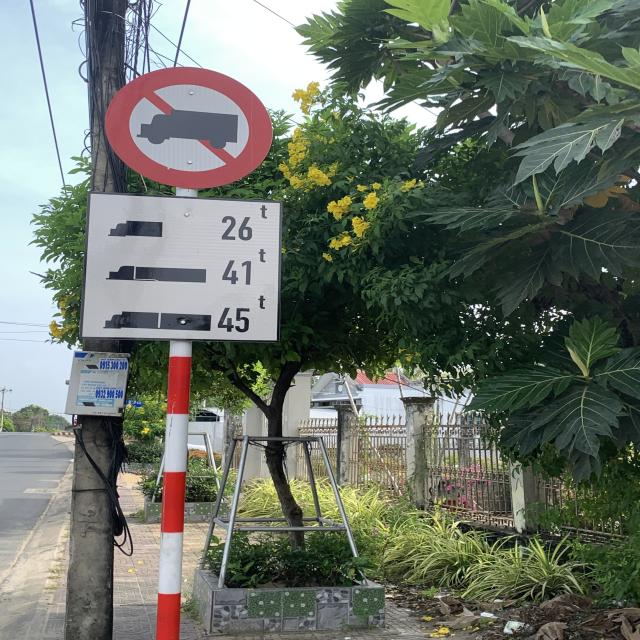Cam_Xe_Tai: (100, 67, 272, 186)
